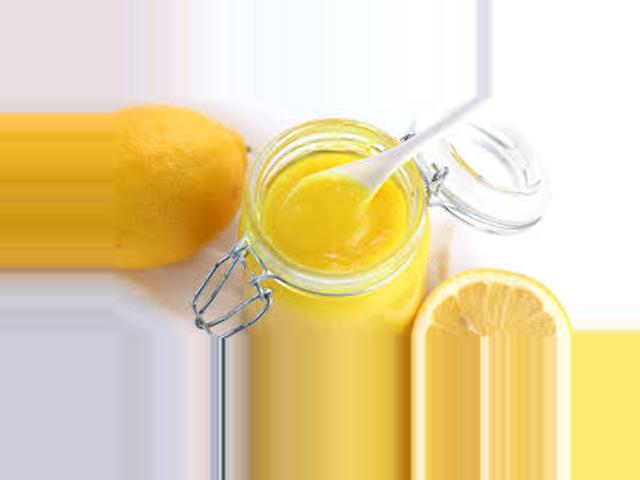lemon: (110, 110, 254, 267)
